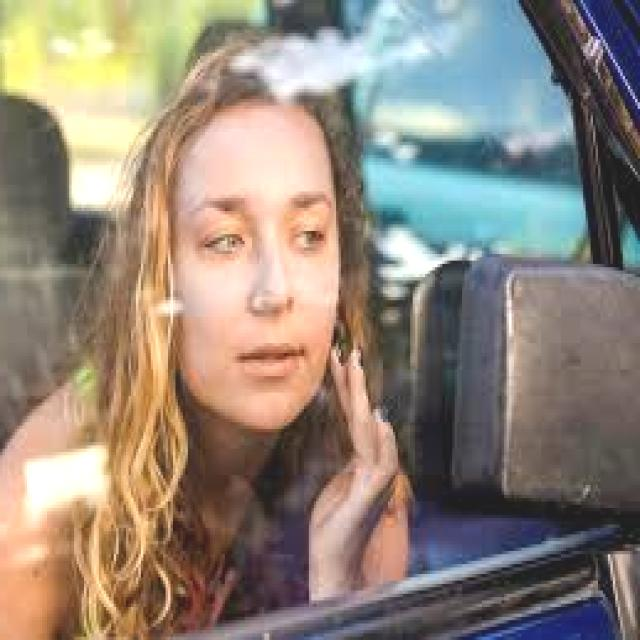normal_face: (155, 86, 334, 447)
